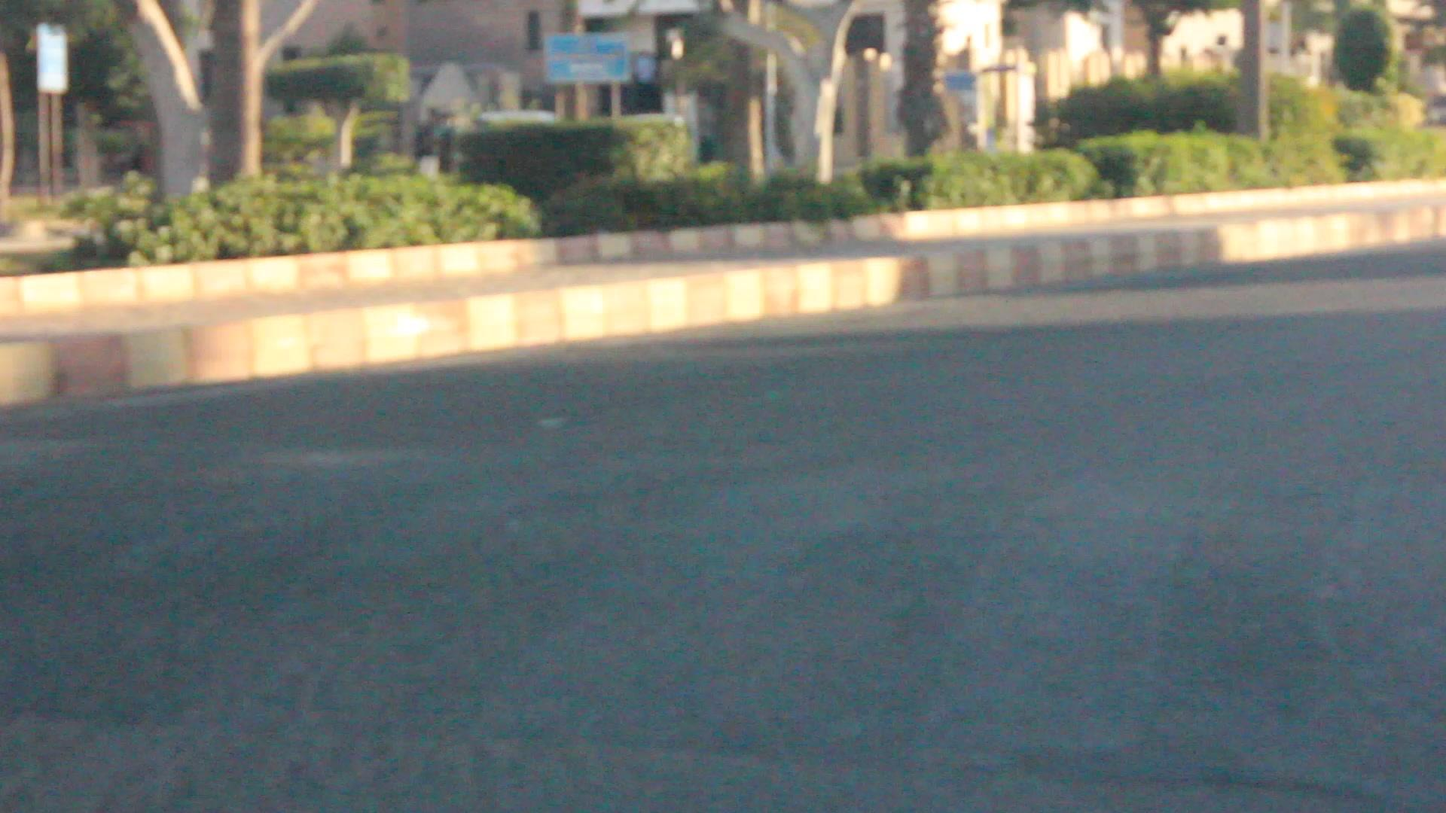Bump: (2, 420, 1446, 787)
